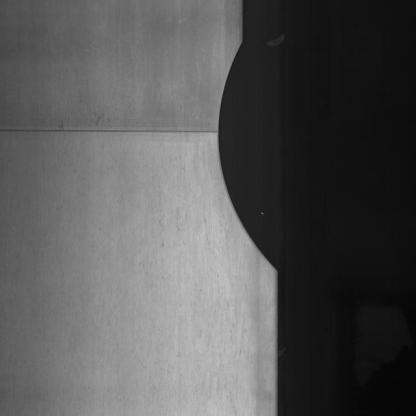crescent_gap: (214, 21, 284, 279)
welding_line: (3, 112, 218, 146)
